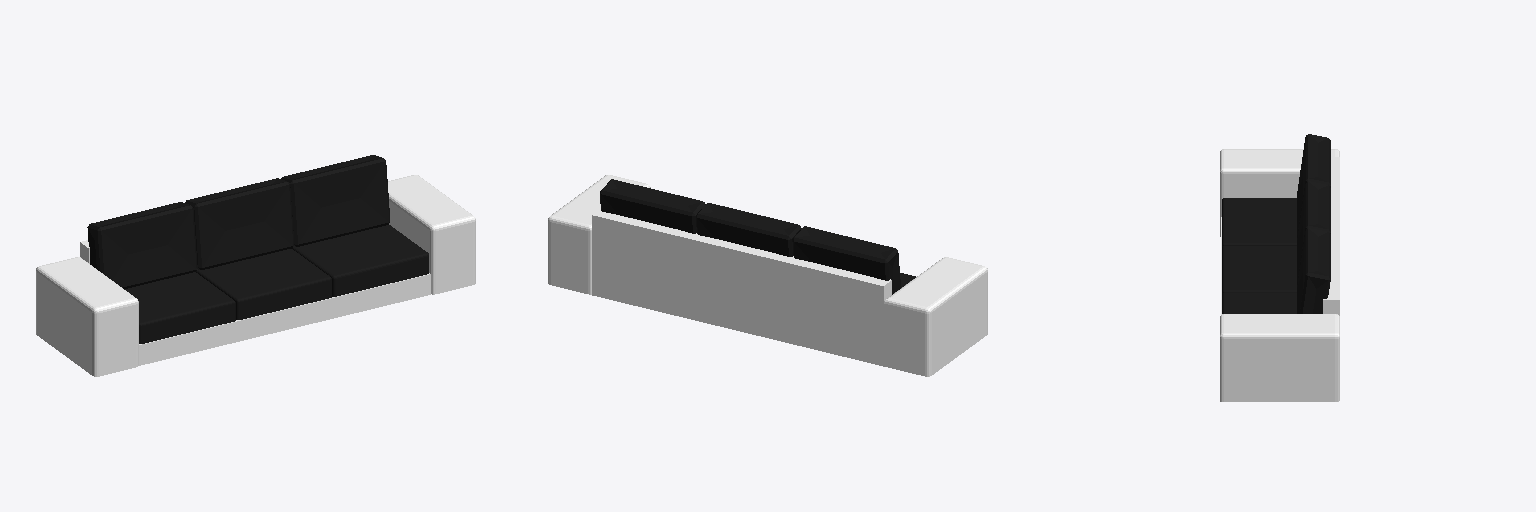
File: sofa.obj
3 renders of one model, left to right at view 1: azimuth 30°, elevation 25°; view 2: azimuth 150°, elevation 25°; view 3: azimuth 270°, elevation 25°, orthographic.
Parts seen in each view (by area): view 1: Box004, Box010, Box009, Box008, Box003, Box001, Box007, Box006, Box005; view 2: Box002, Box004, Box003, Box010, Box009, Box008; view 3: Box003, Box004, Box005, Box006, Box008, Box007, Box010, Box009, Box002.
Part boxes in pixels (left/top/right/bottom): Box004: left=36, top=257, right=138, bottom=376; Box010: left=87, top=202, right=197, bottom=288; Box009: left=185, top=178, right=293, bottom=269; Box008: left=281, top=155, right=389, bottom=246; Box003: left=388, top=175, right=475, bottom=294; Box001: left=139, top=273, right=430, bottom=365; Box007: left=292, top=225, right=428, bottom=296; Box006: left=196, top=249, right=331, bottom=319; Box005: left=124, top=272, right=235, bottom=343; Box002: left=592, top=209, right=891, bottom=366; Box004: left=884, top=257, right=987, bottom=376; Box003: left=548, top=175, right=650, bottom=294; Box010: left=792, top=226, right=900, bottom=294; Box009: left=696, top=203, right=801, bottom=256; Box008: left=600, top=179, right=705, bottom=233; Box003: left=1220, top=314, right=1339, bottom=401; Box004: left=1220, top=149, right=1339, bottom=236; Box005: left=1222, top=198, right=1296, bottom=246; Box006: left=1222, top=245, right=1296, bottom=293; Box008: left=1297, top=228, right=1330, bottom=313; Box007: left=1222, top=292, right=1296, bottom=313; Box010: left=1297, top=134, right=1330, bottom=237; Box009: left=1297, top=181, right=1330, bottom=284; Box002: left=1323, top=157, right=1339, bottom=315.
Size of the model in its own units: 45.18 by 11.91 by 12.36.